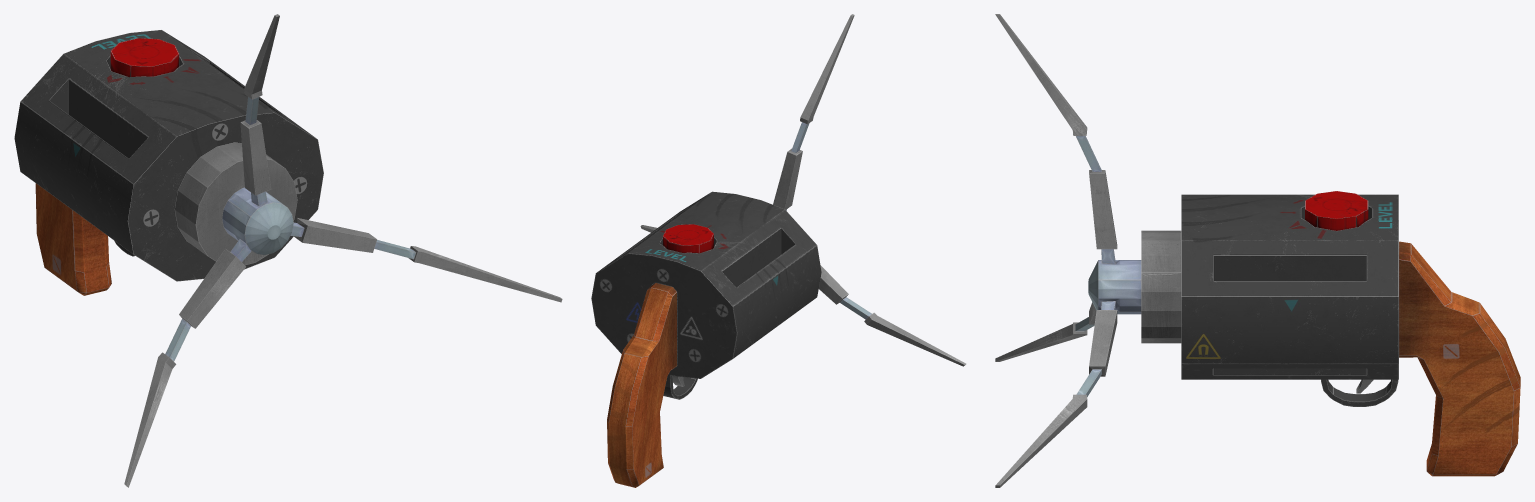
The model's file is grapple_gun.glb.
3 views of the same model, side by side, from view 1: azimuth 30°, elevation 25°; view 2: azimuth 150°, elevation 25°; view 3: azimuth 270°, elevation 25° (orthographic). The views are drawn at different scales.
Parts seen in each view (by area): view 1: Cylinder001; view 2: Cylinder001; view 3: Cylinder001.
Boxes of the visible parts, x1,y1,x2,y2 form: Cylinder001: [14, 14, 562, 487]; Cylinder001: [591, 14, 966, 487]; Cylinder001: [995, 14, 1520, 487].
Bounding box in the file's own units: 44.44 × 44.25 × 48.28.
Materials: 5 (5 with a texture image).
